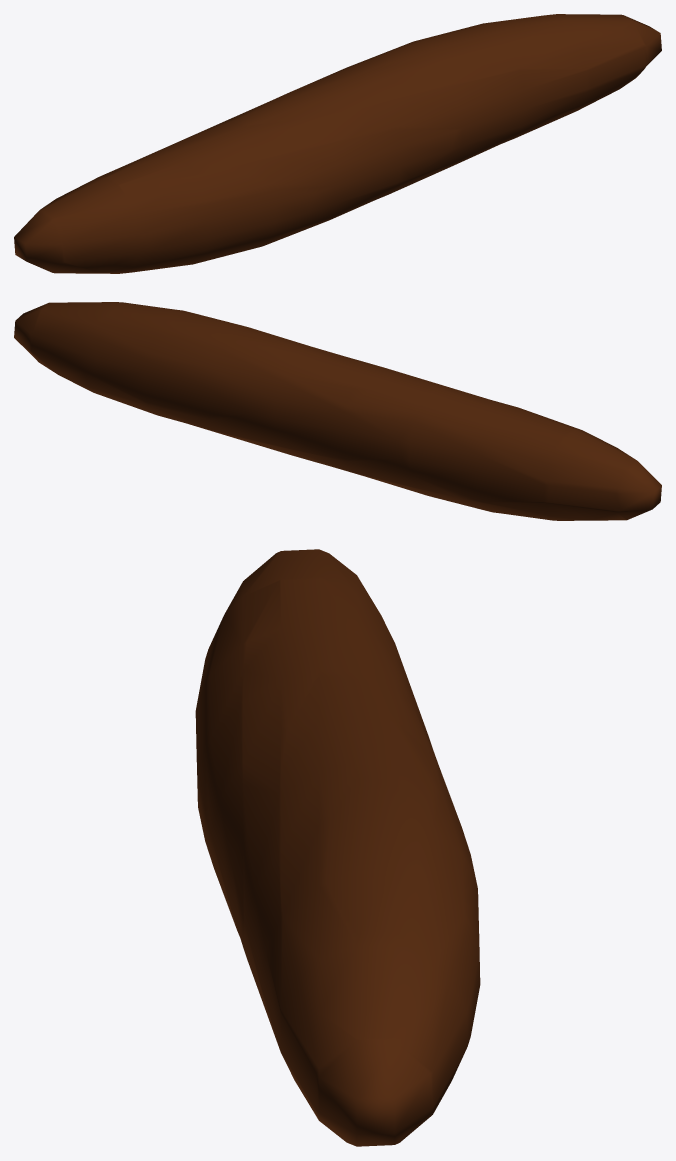
The model's file is torete.fbx.
The picture shows the model from 3 angles, top to bottom: view 1: azimuth 30°, elevation 25°; view 2: azimuth 150°, elevation 25°; view 3: azimuth 270°, elevation 25°; orthographic projection. The views are drawn at different scales.
Parts seen in each view (by area): view 1: Mball; view 2: Mball; view 3: Mball.
Boxes of the visible parts, x1=… form: Mball: x1=14, y1=14, x2=661, y2=273; Mball: x1=14, y1=302, x2=661, y2=520; Mball: x1=195, y1=549, x2=480, y2=1146.
Bounding box in the file's own units: 1515 × 301 × 300.
